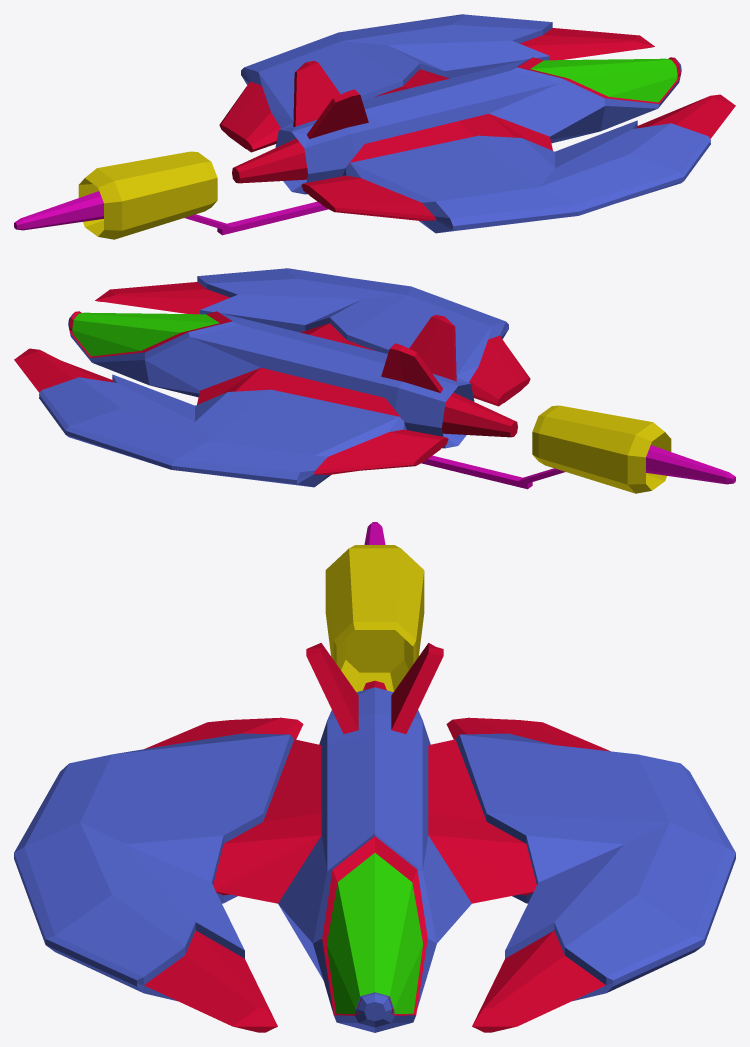
The model's file is ShipSinistar.fbx.
3 views of the same model, one above another, from view 1: azimuth 30°, elevation 25°; view 2: azimuth 150°, elevation 25°; view 3: azimuth 270°, elevation 25° (orthographic). The views are drawn at different scales.
Parts seen in each view (by area): view 1: Ship, Cube; view 2: Ship, Cube; view 3: Ship, Cube.
Part boxes in pixels (x1,y1,x2,y2): Ship: [219, 14, 735, 233]; Cube: [14, 151, 328, 239]; Ship: [14, 268, 530, 487]; Cube: [421, 405, 735, 493]; Ship: [14, 643, 735, 1032]; Cube: [325, 522, 424, 691].
Bounding box in the file's own units: 1390 × 255 × 871.
